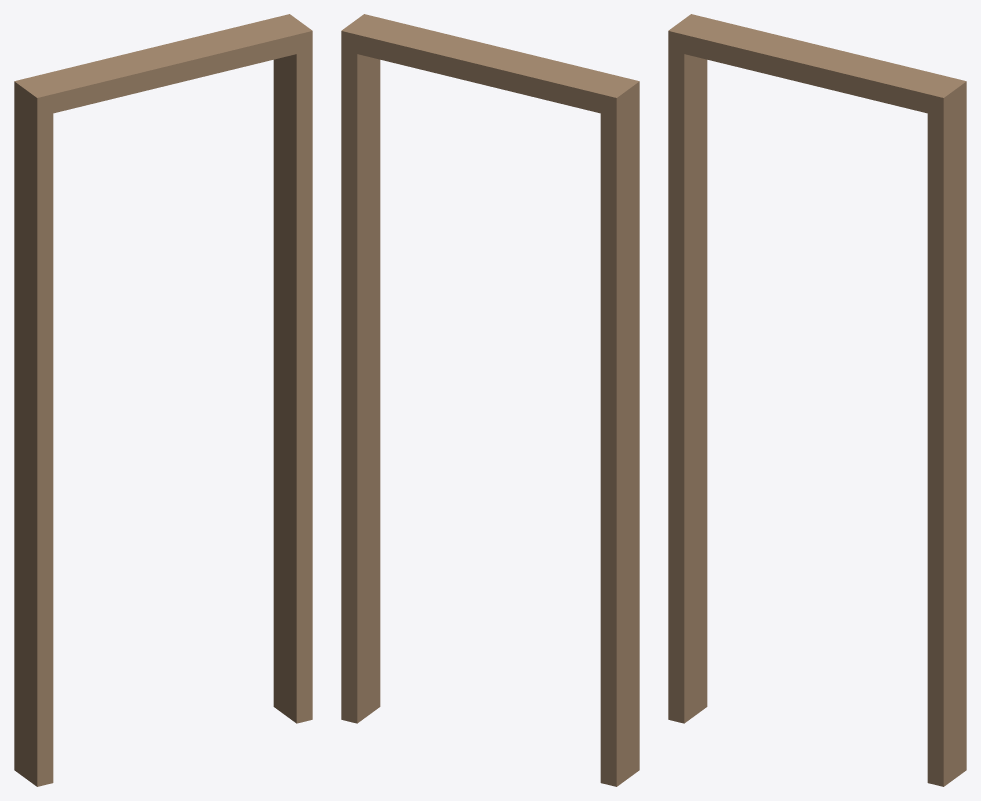
File: interior_door.glb
The picture shows the model from 3 angles, left to right: view 1: azimuth 30°, elevation 25°; view 2: azimuth 150°, elevation 25°; view 3: azimuth 330°, elevation 25°; orthographic projection.
Parts seen in each view (by area): view 1: doorwayOpen(Clone); view 2: doorwayOpen(Clone); view 3: doorwayOpen(Clone).
Part boxes in pixels (<box>): doorwayOpen(Clone): <box>14,14,312,786</box>; doorwayOpen(Clone): <box>341,14,639,786</box>; doorwayOpen(Clone): <box>668,14,966,786</box>.
Bounding box in the file's own units: 0.9 × 2.15 × 0.13.
